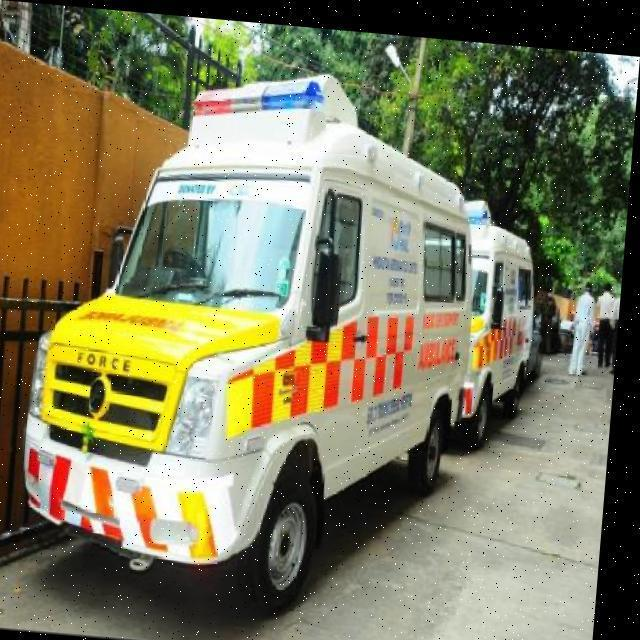Ambulance: (12, 44, 566, 634), (0, 283, 620, 640), (448, 189, 556, 444)
